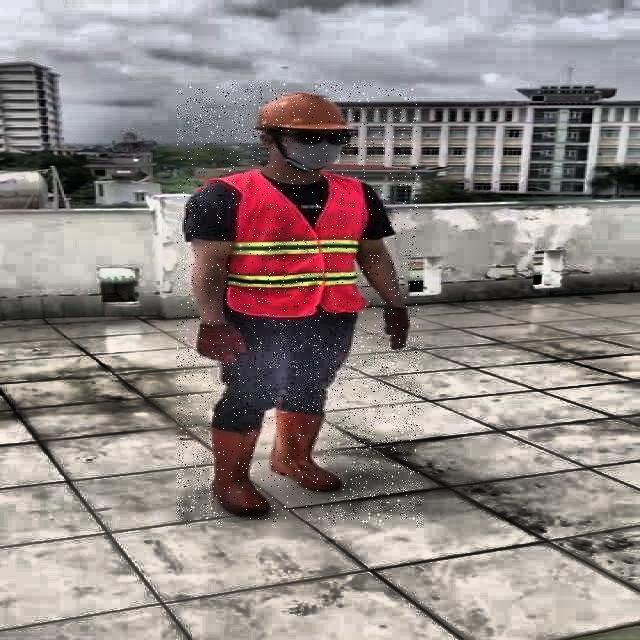safety_helmet: (254, 90, 352, 133)
safety_jacket: (226, 175, 372, 316)
